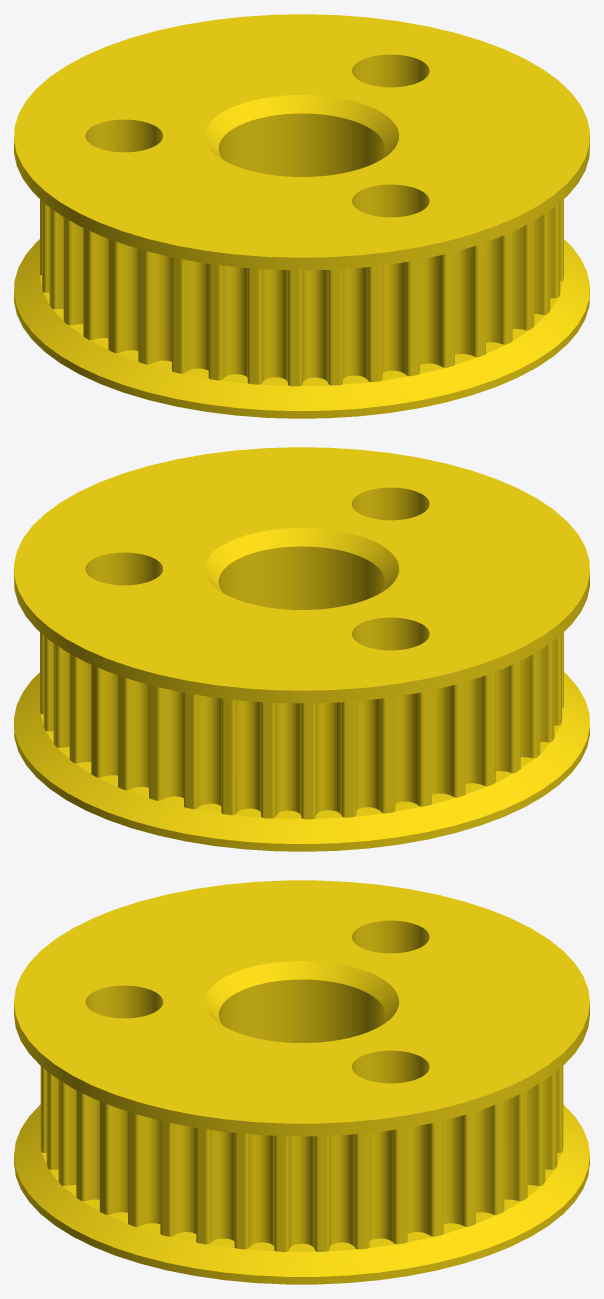
File: A26_W106_drivenPulley.gltf
The picture shows the model from 3 angles, top to bottom: view 1: azimuth 30°, elevation 25°; view 2: azimuth 150°, elevation 25°; view 3: azimuth 270°, elevation 25°; orthographic projection.
Visible parts, largest first — view 1: mesh5678, mesh5680, mesh5667, mesh5679, mesh5664, mesh5668, mesh5749, mesh5743, mesh5737, mesh5755, mesh5677, mesh5671 (+49 smaller); view 2: mesh5678, mesh5680, mesh5667, mesh5679, mesh5664, mesh5668, mesh5821, mesh5827, mesh5833, mesh5815, mesh5674, mesh5671 (+49 smaller); view 3: mesh5678, mesh5680, mesh5667, mesh5679, mesh5664, mesh5668, mesh5905, mesh5899, mesh5911, mesh5893, mesh5917, mesh5677 (+48 smaller).
Part boxes in pixels (x1=…): mesh5678: x1=14, y1=14, x2=589, y2=257; mesh5680: x1=14, y1=239, x2=589, y2=411; mesh5667: x1=218, y1=113, x2=385, y2=176; mesh5679: x1=14, y1=135, x2=589, y2=270; mesh5664: x1=14, y1=289, x2=589, y2=418; mesh5668: x1=204, y1=95, x2=399, y2=159; mesh5749: x1=265, y1=269, x2=286, y2=379; mesh5743: x1=304, y1=270, x2=325, y2=379; mesh5737: x1=343, y1=267, x2=363, y2=378; mesh5755: x1=227, y1=266, x2=247, y2=377; mesh5677: x1=352, y1=184, x2=429, y2=217; mesh5671: x1=352, y1=54, x2=429, y2=87; mesh5678: x1=14, y1=447, x2=589, y2=690; mesh5680: x1=14, y1=672, x2=589, y2=844; mesh5667: x1=218, y1=546, x2=385, y2=609; mesh5679: x1=14, y1=568, x2=589, y2=703; mesh5664: x1=14, y1=722, x2=589, y2=851; mesh5668: x1=204, y1=528, x2=399, y2=592; mesh5821: x1=317, y1=702, x2=338, y2=812; mesh5827: x1=278, y1=703, x2=299, y2=812; mesh5833: x1=240, y1=700, x2=260, y2=811; mesh5815: x1=356, y1=699, x2=376, y2=810; mesh5674: x1=352, y1=617, x2=429, y2=650; mesh5671: x1=85, y1=552, x2=162, y2=585; mesh5678: x1=14, y1=880, x2=589, y2=1123; mesh5680: x1=14, y1=1104, x2=589, y2=1276; mesh5667: x1=218, y1=979, x2=385, y2=1042; mesh5679: x1=14, y1=1003, x2=589, y2=1136; mesh5664: x1=14, y1=1157, x2=589, y2=1284; mesh5668: x1=205, y1=961, x2=398, y2=1025; mesh5905: x1=291, y1=1136, x2=312, y2=1245; mesh5899: x1=330, y1=1134, x2=351, y2=1244; mesh5911: x1=252, y1=1134, x2=273, y2=1244; mesh5893: x1=369, y1=1130, x2=388, y2=1241; mesh5917: x1=215, y1=1130, x2=234, y2=1241; mesh5677: x1=85, y1=985, x2=163, y2=1018.
Bounding box in the file's own units: 0.0411 × 0.0127 × 0.0412.
